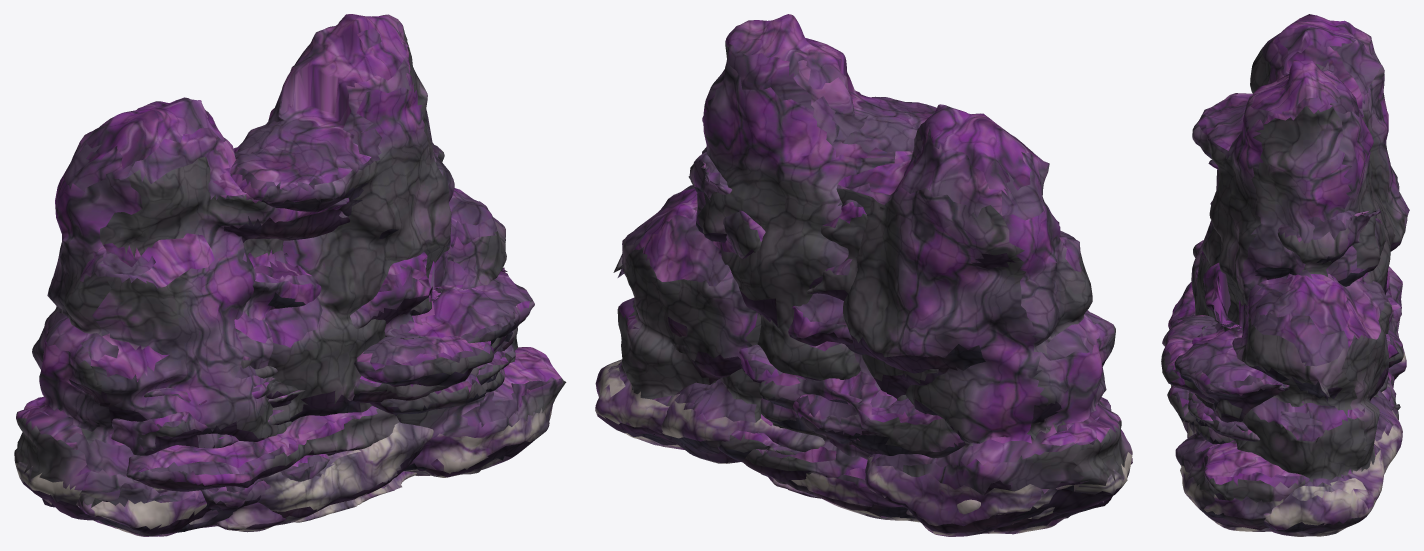
File: reef-nsa-kit.glb
The picture shows the model from 3 angles, left to right: view 1: azimuth 30°, elevation 25°; view 2: azimuth 150°, elevation 25°; view 3: azimuth 270°, elevation 25°; orthographic projection. The views are drawn at different scales.
Parts seen in each view (by area): view 1: reef-nsa-high-arch-span, reef-nsa-pinnacle-spire, reef-nsa-cave-buttress, reef-nsa-encrusting-ledge, reef-nsa-bommie-mound, reef-nsa-cantilever-shelf, reef-nsa-rubble-talus; view 2: reef-nsa-high-arch-span, reef-nsa-pinnacle-spire, reef-nsa-bommie-mound, reef-nsa-encrusting-ledge, reef-nsa-cave-buttress, reef-nsa-cantilever-shelf; view 3: reef-nsa-high-arch-span, reef-nsa-pinnacle-spire, reef-nsa-cave-buttress, reef-nsa-bommie-mound, reef-nsa-encrusting-ledge, reef-nsa-cantilever-shelf.
Boxes of the visible parts, left/top/right/bottom form: reef-nsa-high-arch-span: left=14, top=97, right=517, bottom=520; reef-nsa-pinnacle-spire: left=144, top=14, right=454, bottom=525; reef-nsa-cave-buttress: left=42, top=238, right=566, bottom=536; reef-nsa-encrusting-ledge: left=126, top=357, right=508, bottom=491; reef-nsa-bommie-mound: left=201, top=356, right=505, bottom=532; reef-nsa-cantilever-shelf: left=176, top=344, right=515, bottom=532; reef-nsa-rubble-talus: left=294, top=471, right=416, bottom=522; reef-nsa-high-arch-span: left=595, top=104, right=1132, bottom=536; reef-nsa-pinnacle-spire: left=652, top=14, right=936, bottom=463; reef-nsa-bommie-mound: left=717, top=293, right=965, bottom=522; reef-nsa-encrusting-ledge: left=742, top=390, right=1111, bottom=484; reef-nsa-cave-buttress: left=673, top=199, right=1132, bottom=534; reef-nsa-cantilever-shelf: left=739, top=344, right=915, bottom=517; reef-nsa-high-arch-span: left=1161, top=14, right=1409, bottom=536; reef-nsa-pinnacle-spire: left=1171, top=60, right=1402, bottom=473; reef-nsa-cave-buttress: left=1174, top=240, right=1370, bottom=531; reef-nsa-bommie-mound: left=1167, top=270, right=1403, bottom=444; reef-nsa-encrusting-ledge: left=1168, top=282, right=1402, bottom=431; reef-nsa-cantilever-shelf: left=1188, top=334, right=1398, bottom=441.
Bounding box in the file's own units: 0.879 × 0.7157 × 0.3921.
Materials: 7 (7 with a texture image).
